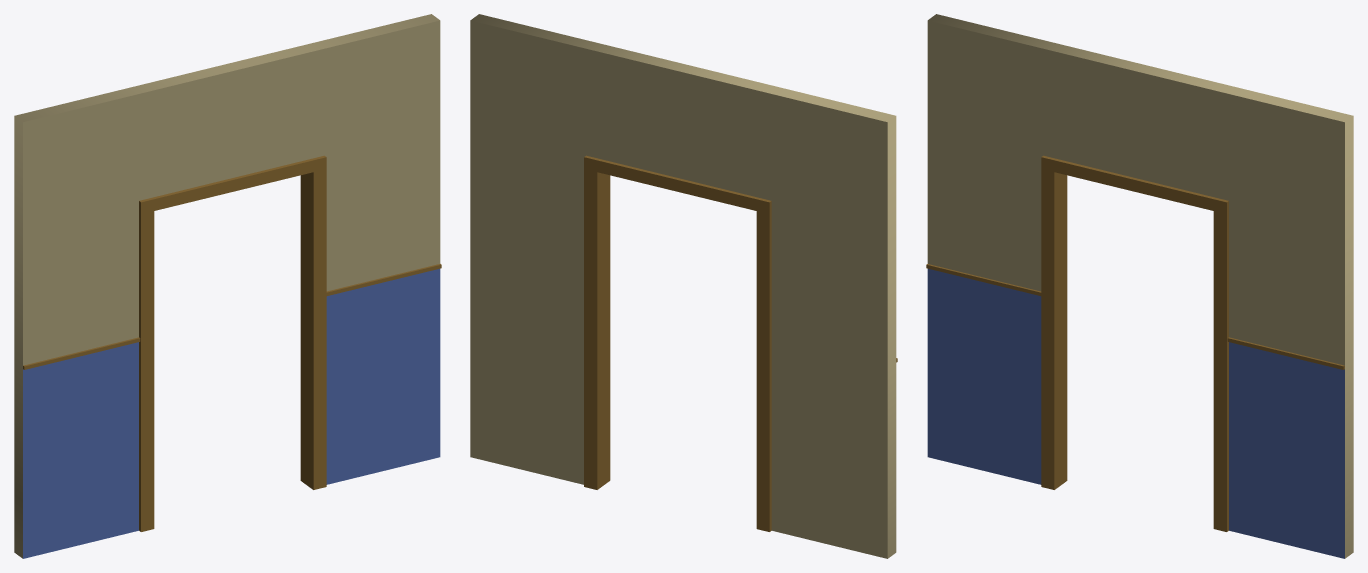
File: Retro Wall Door Extruded.fbx
3 views of the same model, side by side, from view 1: azimuth 30°, elevation 25°; view 2: azimuth 150°, elevation 25°; view 3: azimuth 330°, elevation 25° (orthographic).
Parts seen in each view (by area): view 1: retro_wall_door_extruded; view 2: retro_wall_door_extruded; view 3: retro_wall_door_extruded.
Boxes of the visible parts, <box> form: retro_wall_door_extruded: <box>14,14,441,558</box>; retro_wall_door_extruded: <box>470,14,897,558</box>; retro_wall_door_extruded: <box>926,14,1353,558</box>.
Size of the model in its own units: 300 by 300 by 16.19.
